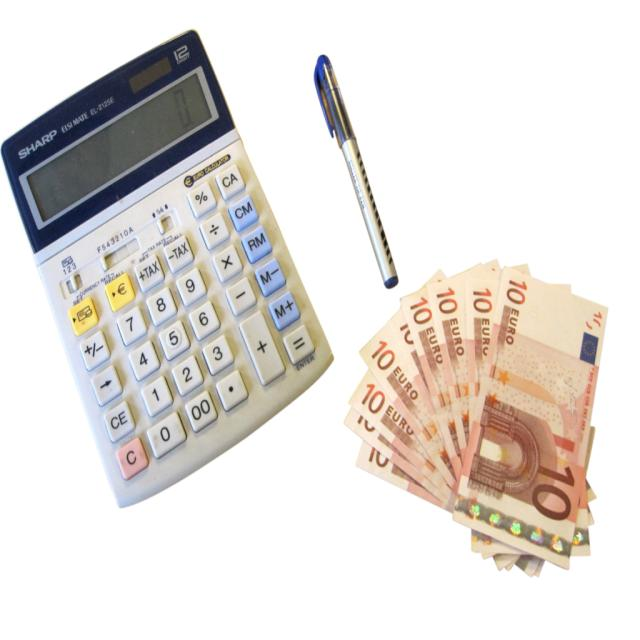Calculator: (1, 25, 333, 508)
